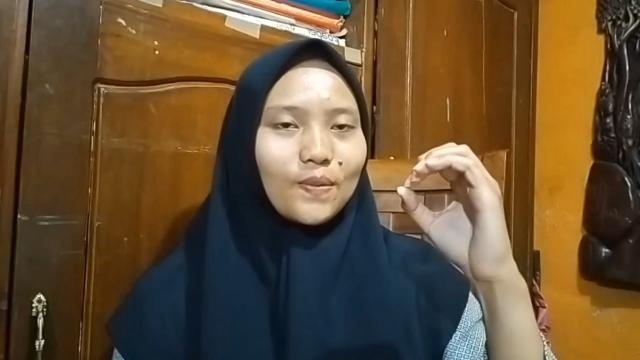O: (394, 140, 526, 284)
